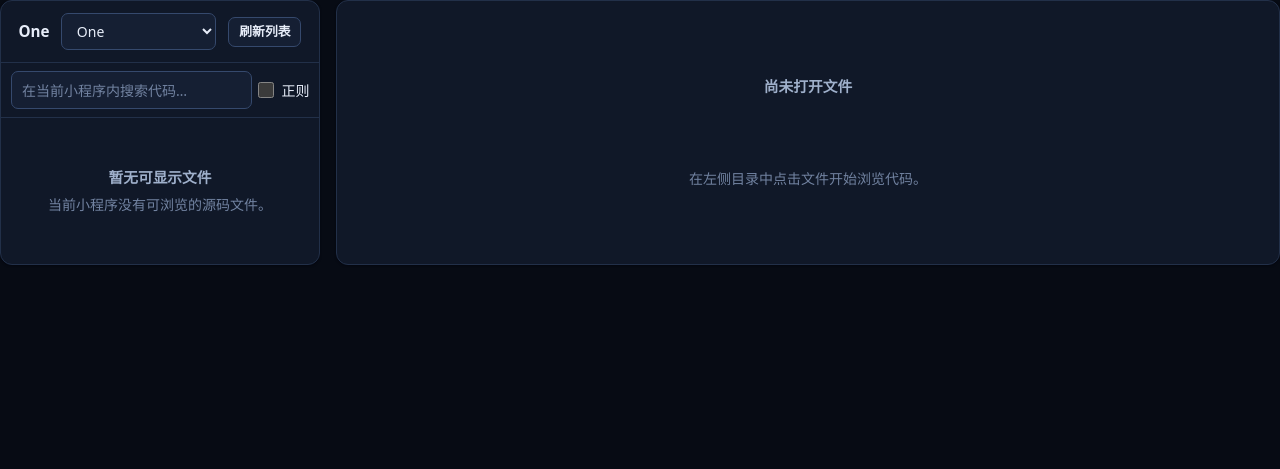
Test: CodeBrowserView › ignores a stale search response after switching projects
Type "needle" into the search field with test id "code-search". click: (131, 90)
box: [11,71,252,110]
Wait 300 ms
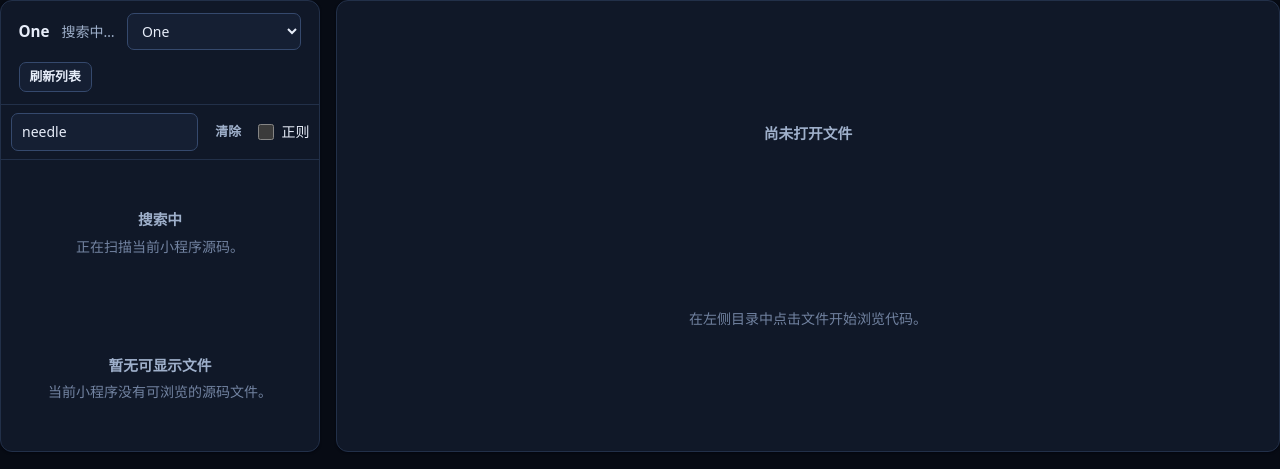
Select "Two" in the dropdown with test id "code-project". click: (214, 32)
box: [126,13,301,50]
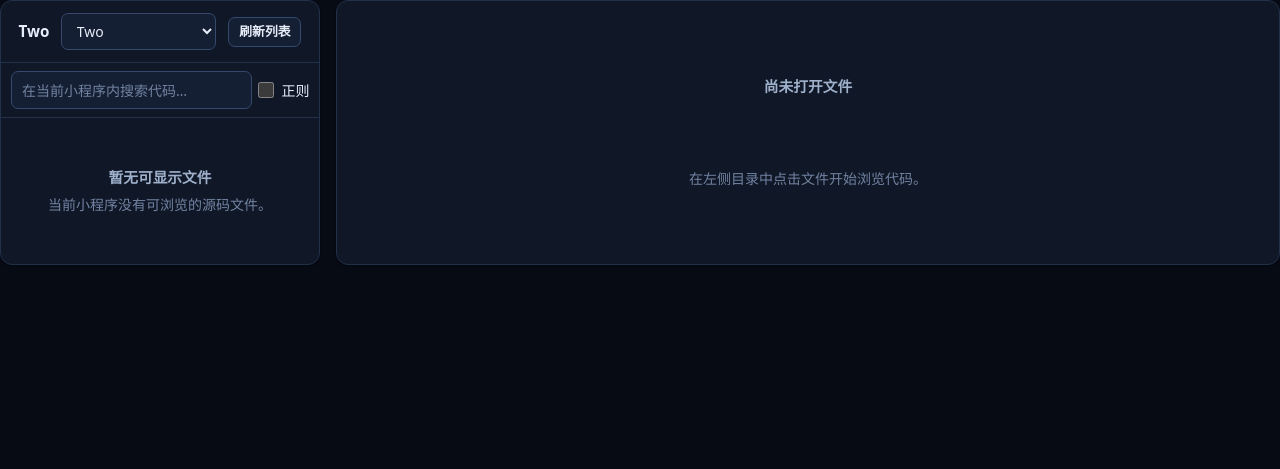
Type "needle" into the search field with test id "code-search". click: (131, 90)
box: [11,71,252,110]
Wait 300 ms
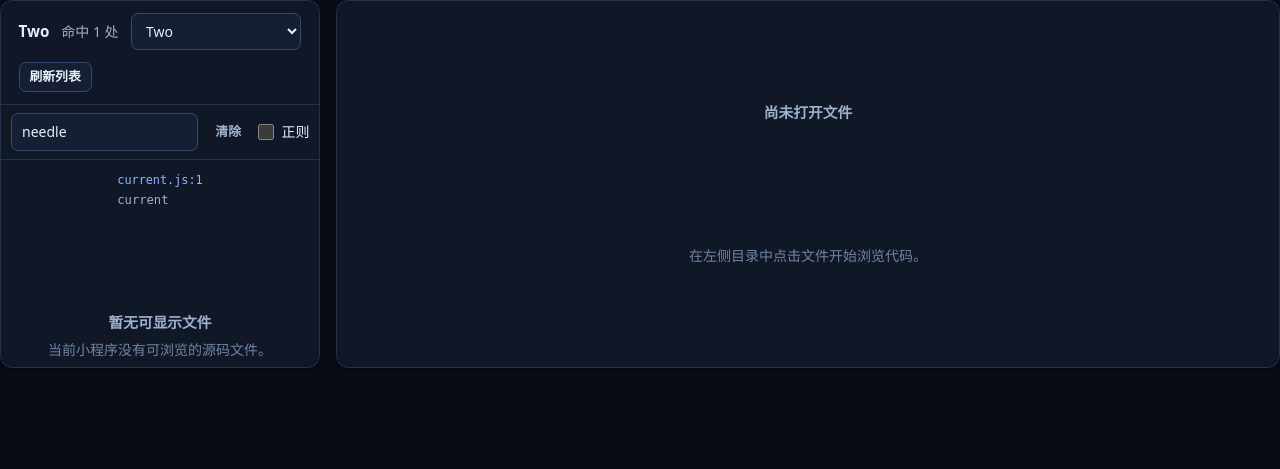
Now the text with class "result-file" reads "current.js:1", box [117,174,203,188]
